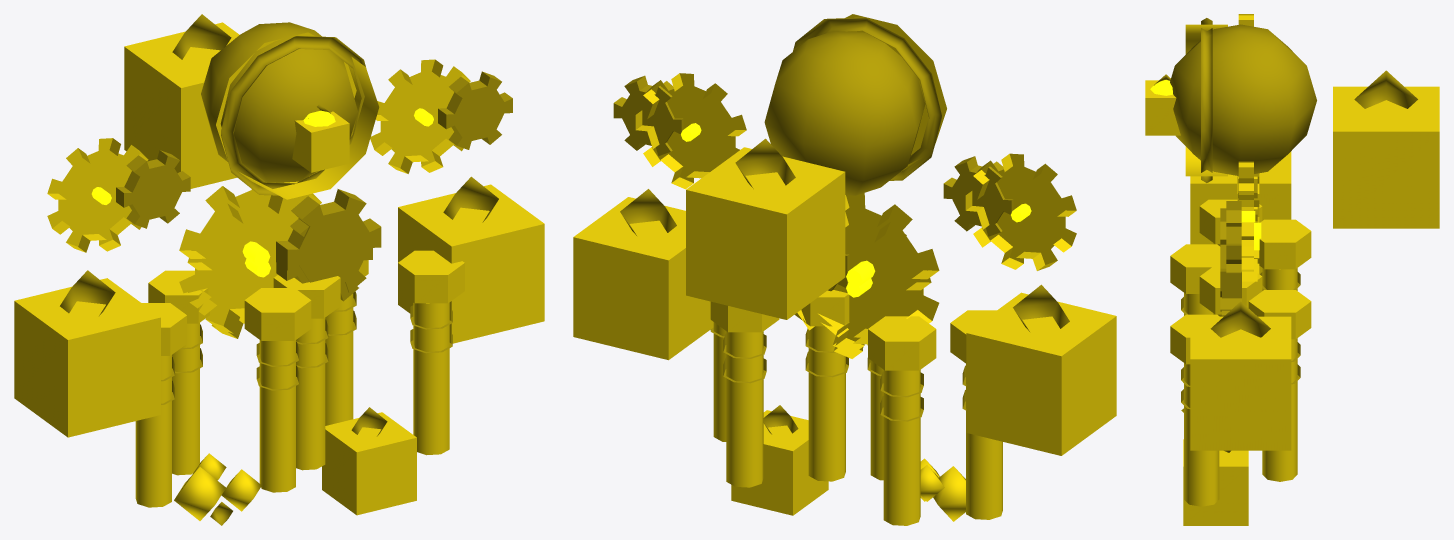
Rendered from golem_072.glb.
The picture shows the model from 3 angles, left to right: view 1: azimuth 30°, elevation 25°; view 2: azimuth 150°, elevation 25°; view 3: azimuth 270°, elevation 25°; orthographic projection. The views are drawn at different scales.
Visible parts, largest first — view 1: Body, Detail, Glow; view 2: Body, Detail, Glow; view 3: Body, Detail, Glow.
Boxes of the visible parts, x1,y1,x2,y2 form: Body: (14,22,544,520); Detail: (60,14,512,525); Glow: (91,108,433,277); Body: (573,14,1116,525); Detail: (613,17,1069,434); Glow: (681,123,1031,297); Body: (1145,14,1439,525); Detail: (1154,18,1417,452); Glow: (1150,80,1261,250).
Bounding box in the file's own units: 1.4 × 1.36 × 0.8007.
